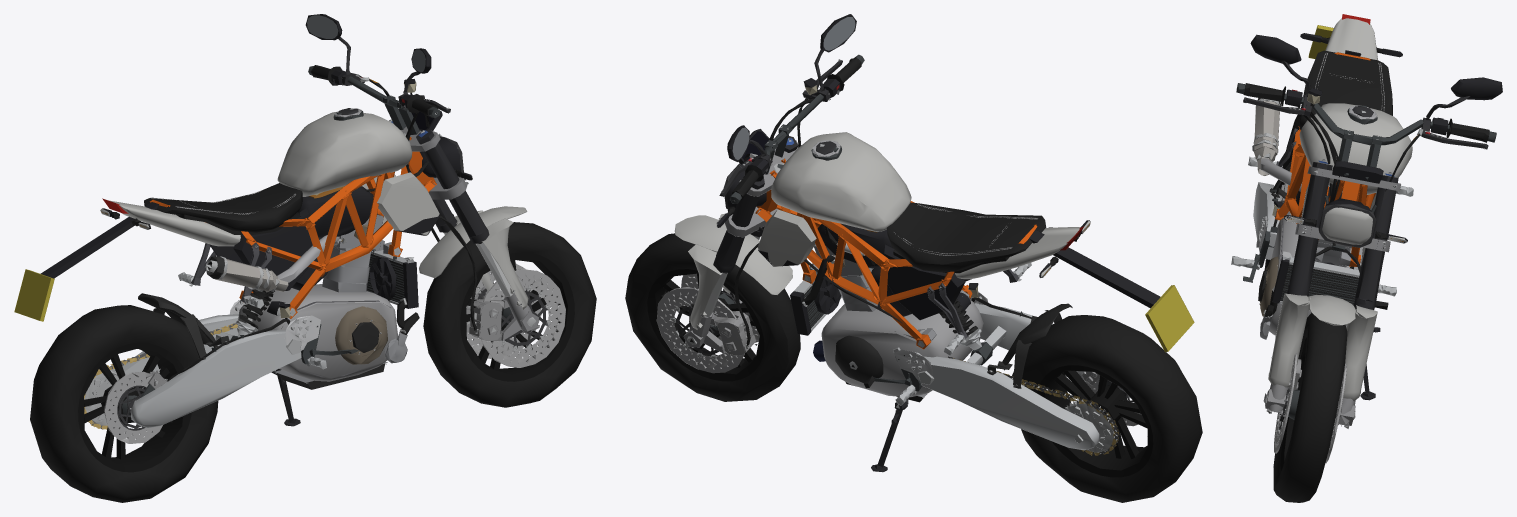
File: SM_Prop_house_bike_9.glb
The picture shows the model from 3 angles, left to right: view 1: azimuth 30°, elevation 25°; view 2: azimuth 150°, elevation 25°; view 3: azimuth 270°, elevation 25°; orthographic projection. The views are drawn at different scales.
Parts seen in each view (by area): view 1: SM_Prop_house_bike_9; view 2: SM_Prop_house_bike_9; view 3: SM_Prop_house_bike_9.
Part boxes in pixels (<box>): SM_Prop_house_bike_9: <box>14,14,596,502</box>; SM_Prop_house_bike_9: <box>625,14,1202,502</box>; SM_Prop_house_bike_9: <box>1231,14,1502,502</box>.
Size of the model in its own units: 2.05 by 1.38 by 0.839.
